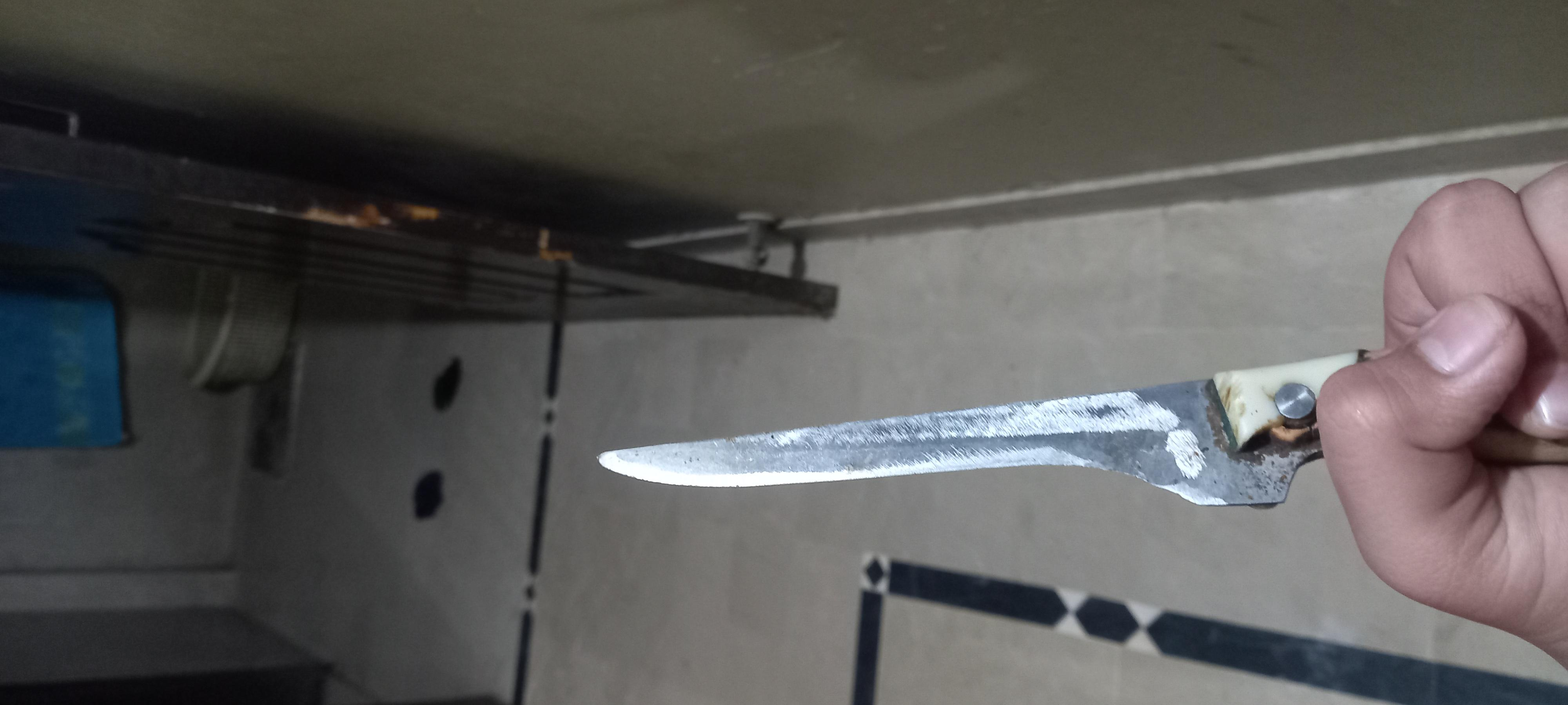knives: (394, 252, 852, 705)
